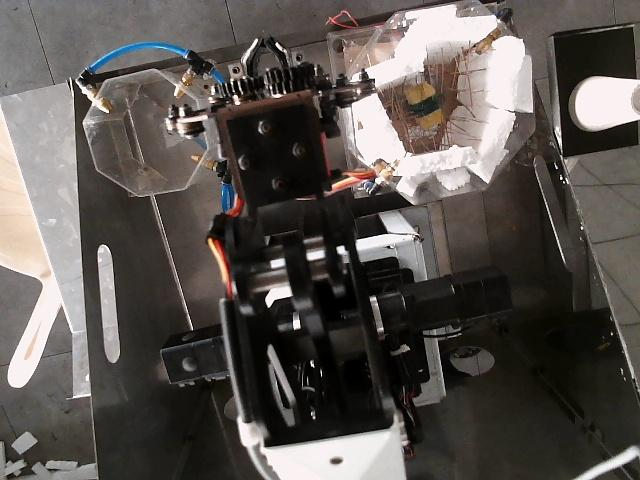cup: (570, 76, 639, 131)
